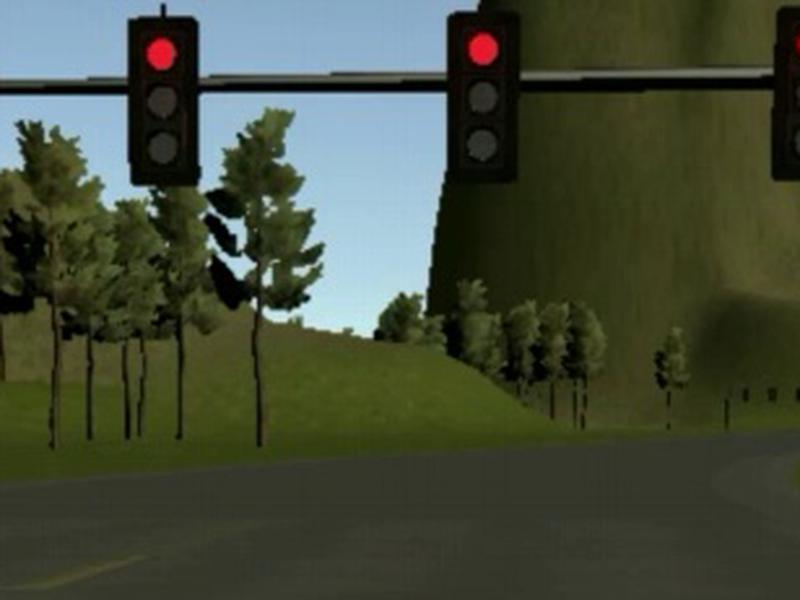Red: (445, 11, 521, 183), (127, 16, 200, 187), (770, 3, 800, 181)
